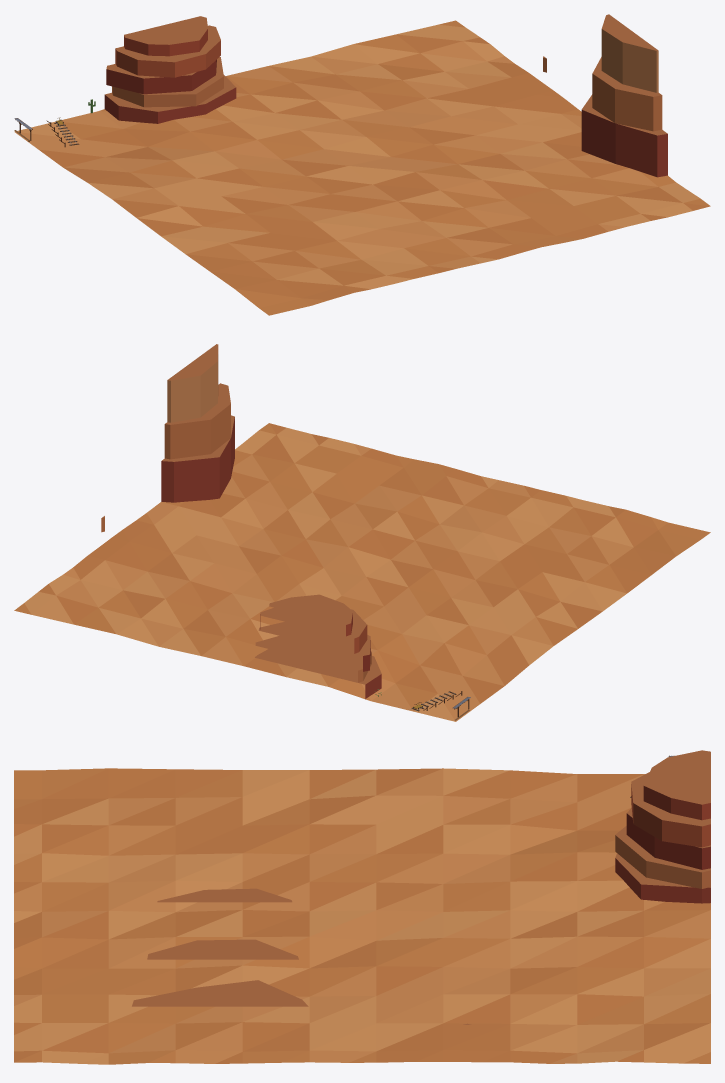
The picture shows the model from 3 angles, top to bottom: view 1: azimuth 30°, elevation 25°; view 2: azimuth 150°, elevation 25°; view 3: azimuth 270°, elevation 25°; orthographic projection. The views are drawn at different scales.
Visible parts, largest first — view 1: baked; view 2: baked; view 3: baked.
Boxes of the visible parts, box(x1,y1,x2,y2) form: baked: box(14, 14, 710, 315); baked: box(14, 344, 710, 721); baked: box(14, 750, 710, 1064).
Size of the model in its own units: 125 by 32.92 by 125.
